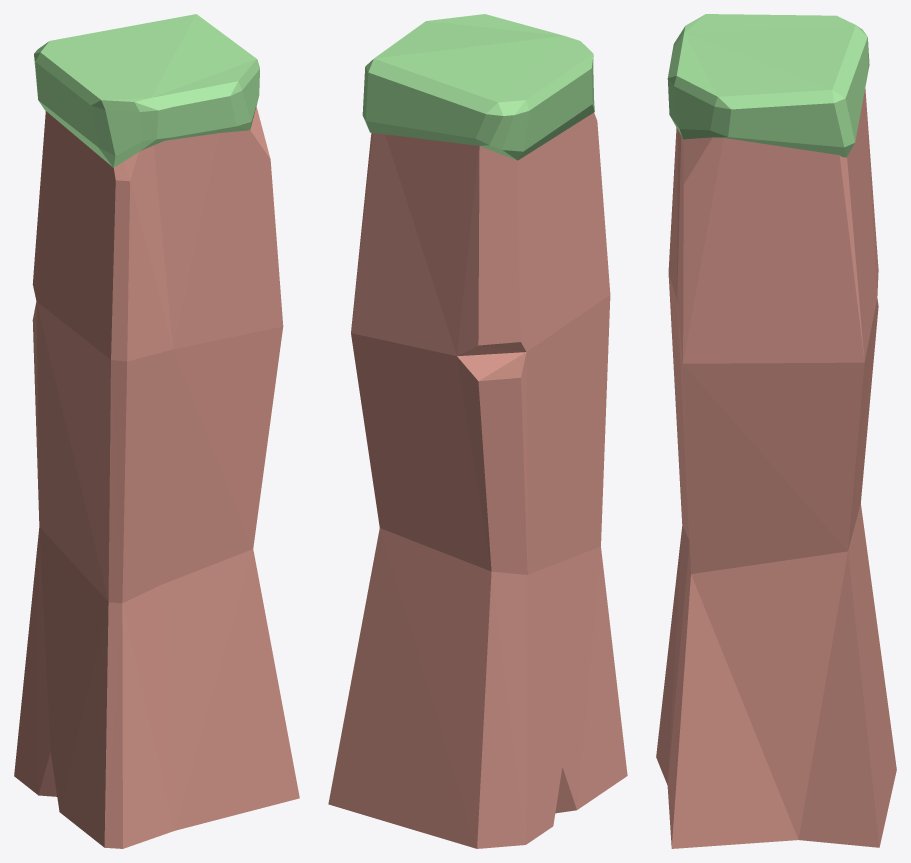
Rendered from Plane_006_Vlad.fbx.
The picture shows the model from 3 angles, left to right: view 1: azimuth 30°, elevation 25°; view 2: azimuth 150°, elevation 25°; view 3: azimuth 270°, elevation 25°; orthographic projection.
Parts seen in each view (by area): view 1: Plane.006; view 2: Plane.006; view 3: Plane.006.
Boxes of the visible parts, <box> form: Plane.006: <box>14,14,299,848</box>; Plane.006: <box>328,14,627,848</box>; Plane.006: <box>656,14,896,848</box>.
Bounding box in the file's own units: 116 × 410 × 120.
